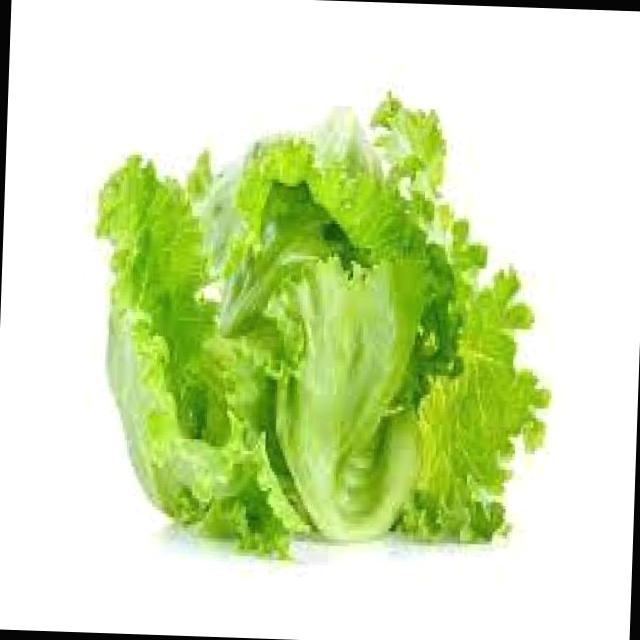Lettuce-Ready-to-Harvest: (97, 92, 548, 557)
